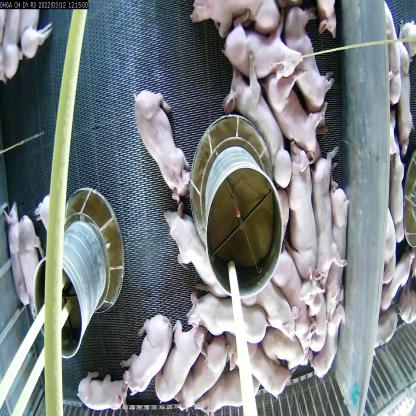Pig: (225, 57, 294, 185), (265, 60, 331, 166), (299, 143, 341, 298), (137, 78, 191, 197), (243, 245, 306, 343), (280, 154, 324, 292), (169, 206, 229, 306), (186, 281, 264, 344), (118, 316, 176, 400), (218, 26, 290, 90), (153, 313, 204, 400), (197, 0, 277, 53), (268, 229, 312, 324), (282, 17, 322, 112), (250, 336, 292, 412), (0, 189, 26, 302), (78, 358, 128, 412), (199, 370, 259, 415), (329, 180, 347, 327), (308, 297, 344, 370), (21, 215, 45, 321), (178, 342, 218, 404), (296, 275, 325, 346)
